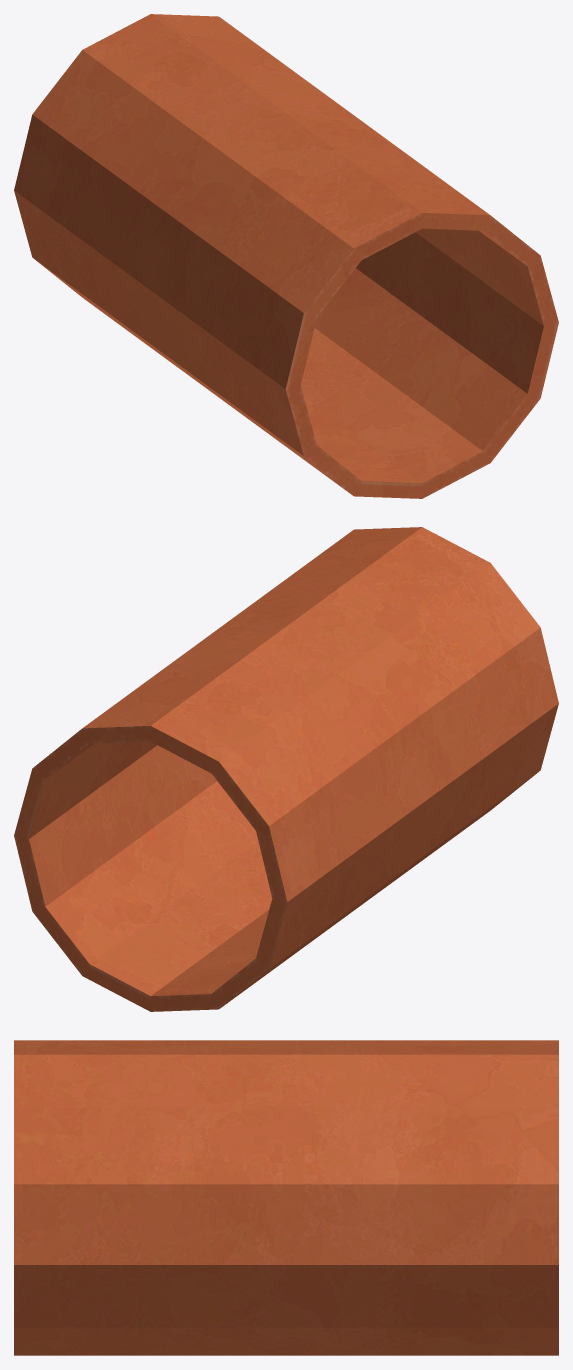
The model's file is CopperPipe_Polished.glb.
3 views of the same model, one above another, from view 1: azimuth 30°, elevation 25°; view 2: azimuth 150°, elevation 25°; view 3: azimuth 270°, elevation 25° (orthographic).
Parts seen in each view (by area): view 1: CopperPipe_Polished; view 2: CopperPipe_Polished; view 3: CopperPipe_Polished.
Boxes of the visible parts, left/top/right/bottom form: CopperPipe_Polished: left=14, top=14, right=558, bottom=498; CopperPipe_Polished: left=14, top=527, right=558, bottom=1011; CopperPipe_Polished: left=14, top=1040, right=558, bottom=1355.
Size of the model in its own units: 0.3711 by 0.3711 by 0.6387.
Materials: 1 (1 with a texture image).
